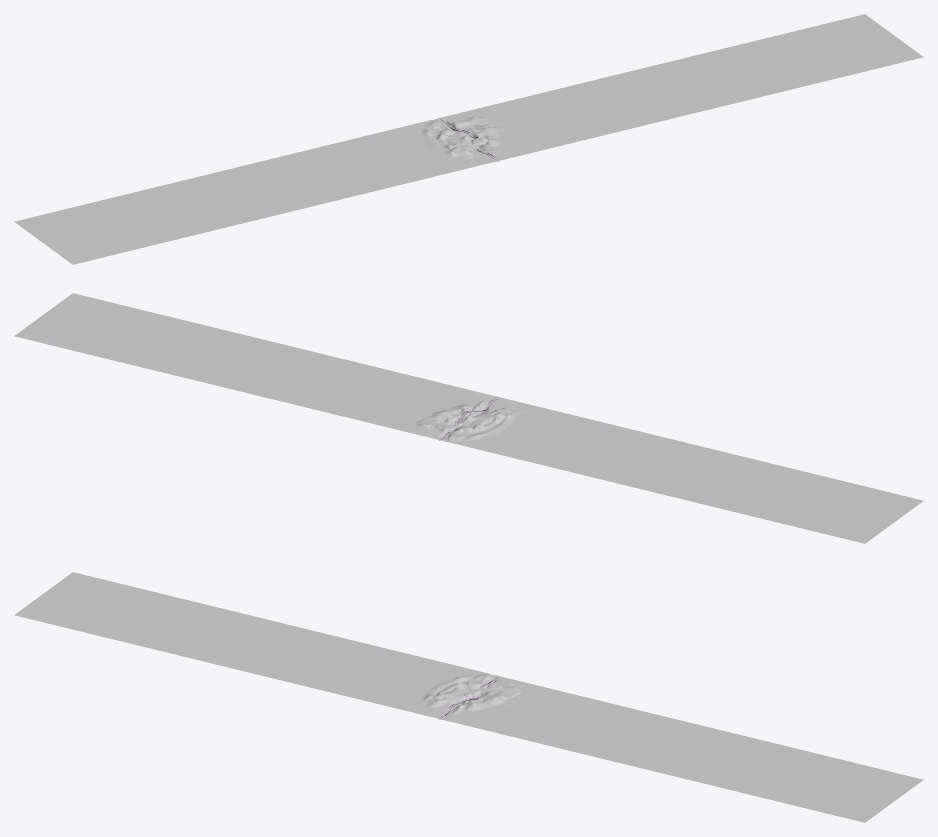
The model's file is desert_1.FBX.
3 renders of one model, top to bottom at view 1: azimuth 30°, elevation 25°; view 2: azimuth 150°, elevation 25°; view 3: azimuth 330°, elevation 25°, orthographic.
Visible parts, largest first — view 1: Plane029, Object001; view 2: Plane029, Object001; view 3: Plane029, Object001.
Part boxes in pixels (x1,y1,x2,y2): Plane029: (14, 14, 923, 264); Object001: (398, 107, 542, 170); Plane029: (14, 293, 923, 543); Object001: (395, 386, 539, 449); Plane029: (14, 572, 923, 822); Object001: (398, 666, 542, 729).
Bounding box in the file's own units: 20000 × 2400 × 167.
